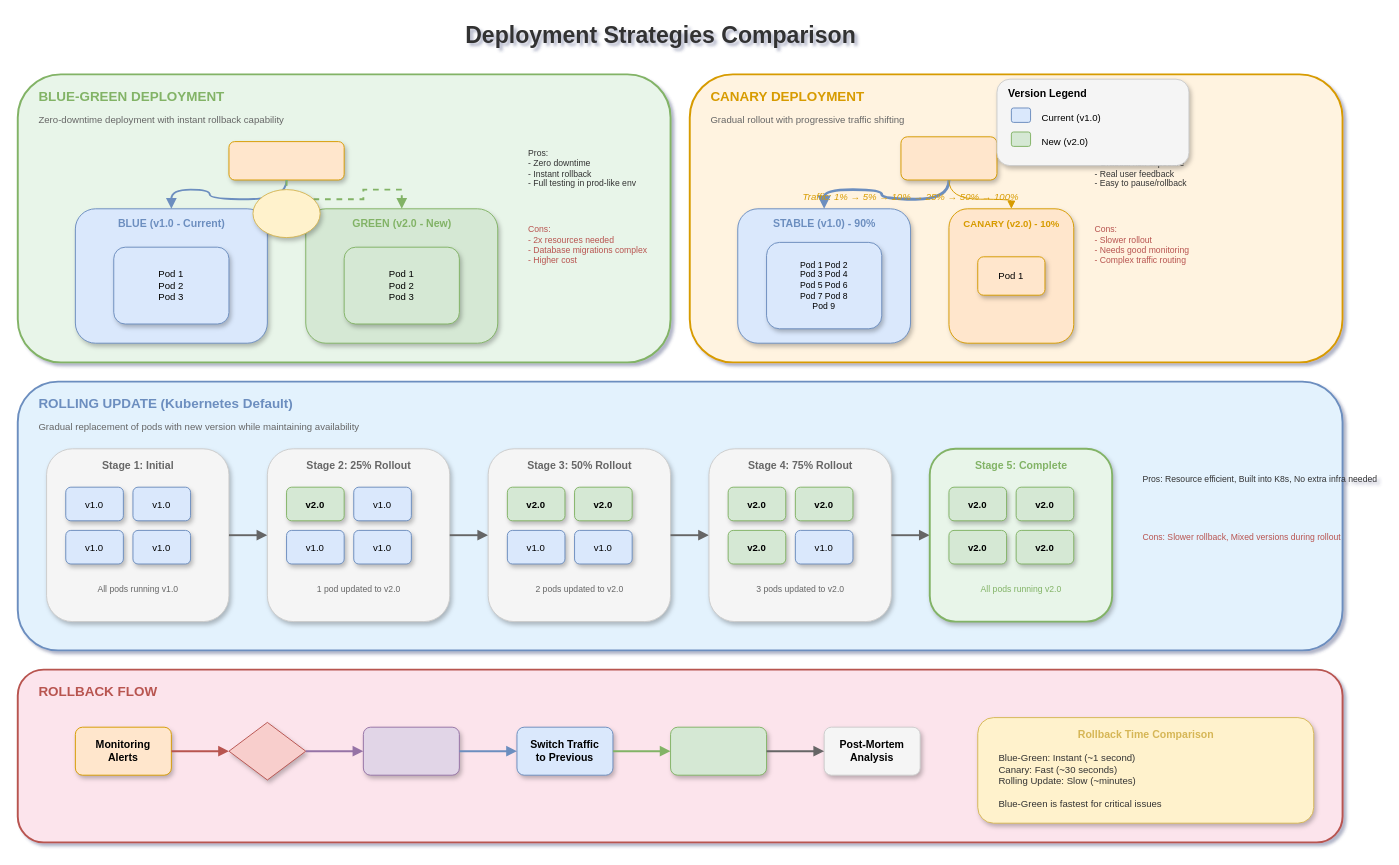
The diagram is 1399 pixels wide and 865 high, and some of its shapes have lost their labels. The centre of each missing label's shape, as x and y in pixels:
Automatic Rollback: point (412, 752)
Ingress / Service Mesh: point (949, 159)
Issue Detected: point (268, 752)
Load Balancer: point (287, 162)
Switch Traffic: point (287, 214)
Verify Health: point (719, 752)
